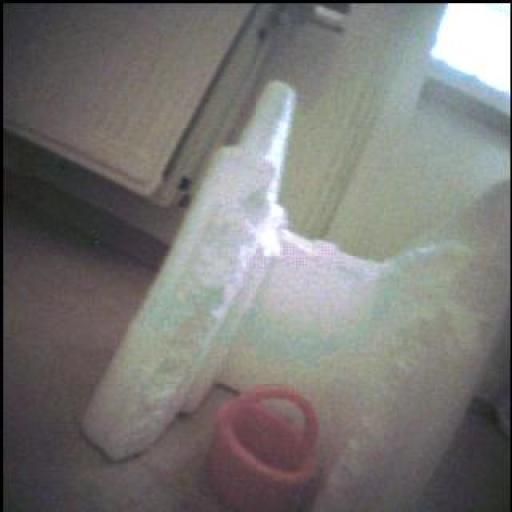Basket: (209, 387, 319, 512)
